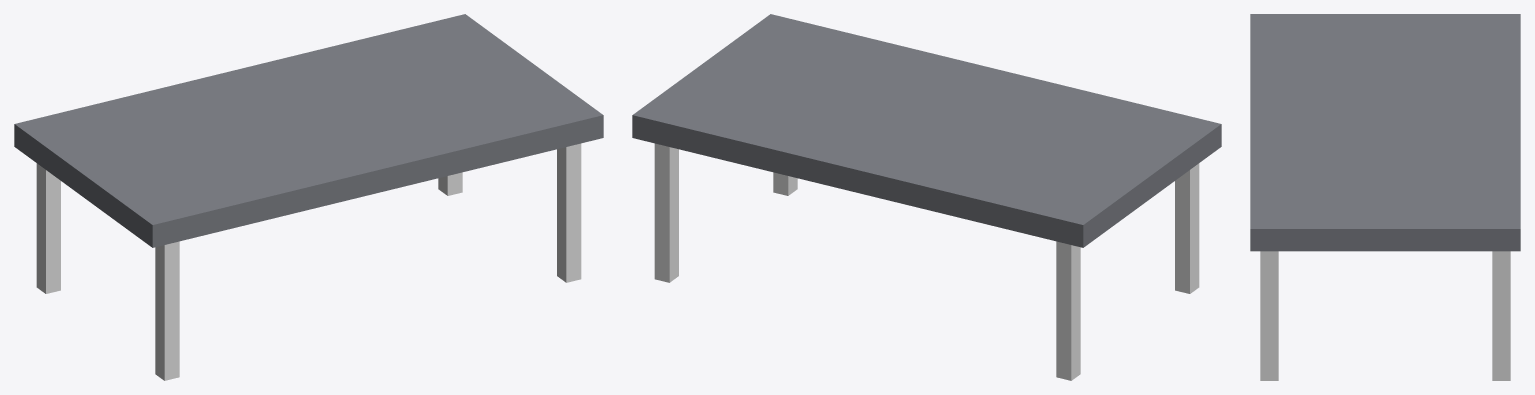
The model's file is Table1WideV1.gltf.
3 renders of one model, left to right at view 1: azimuth 30°, elevation 25°; view 2: azimuth 150°, elevation 25°; view 3: azimuth 270°, elevation 25°, orthographic. The views are drawn at different scales.
Visible parts, largest first — view 1: Table1WideV1; view 2: Table1WideV1; view 3: Table1WideV1.
Boxes of the visible parts, x1,y1,x2,y2 form: Table1WideV1: [14, 14, 603, 380]; Table1WideV1: [632, 14, 1221, 380]; Table1WideV1: [1250, 14, 1520, 380].
Bounding box in the file's own units: 1.5 × 0.5206 × 0.7962.
Materials: 1 (1 with a texture image).
